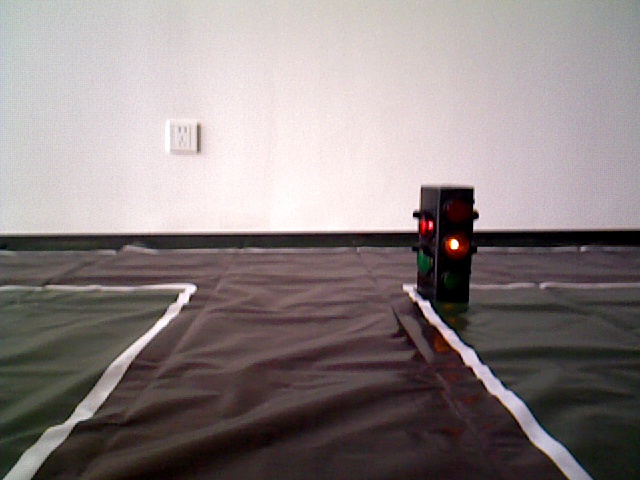yellow: (418, 186, 473, 299)
